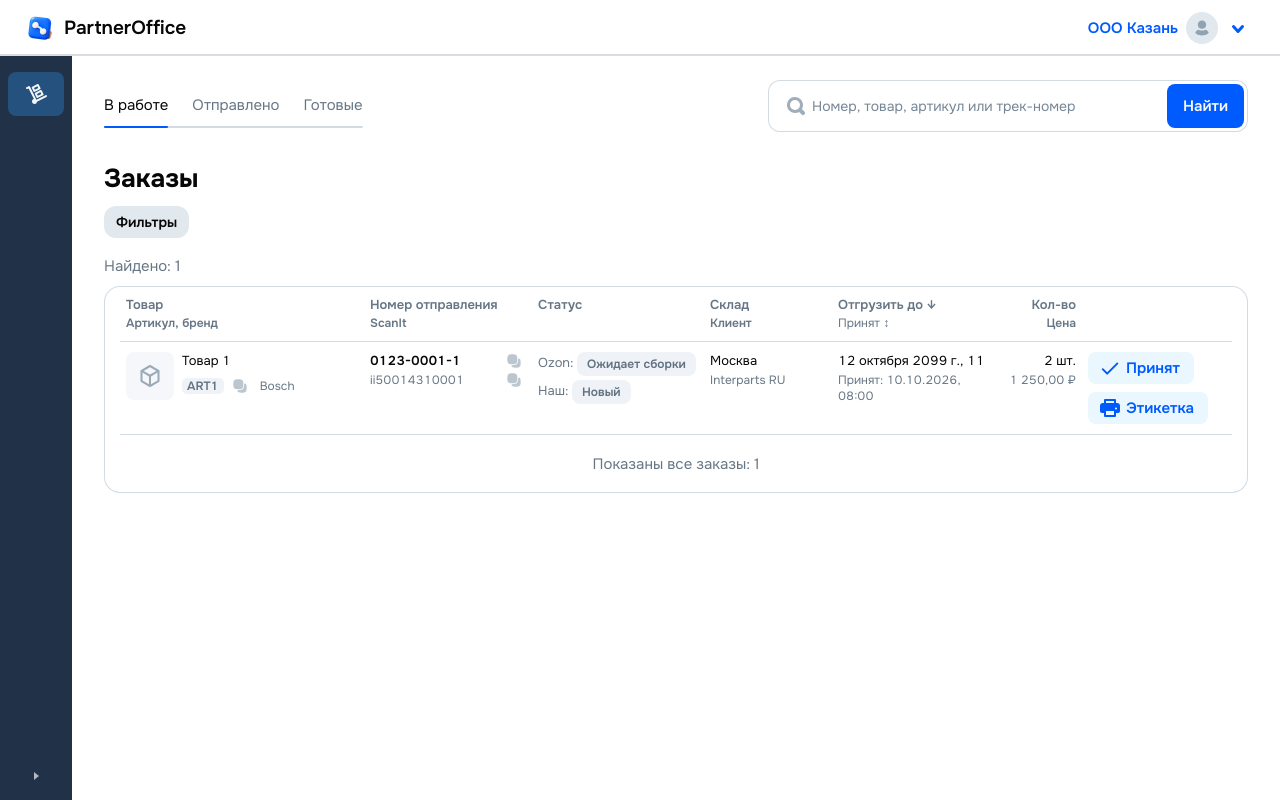
Статус Studio2: «Принят» → «Отгрузить» › цепочка: «Принят» → «Отгрузить» (собирает отправление в Ozon) → кнопки нет; ответ сервера сразу в строке
Click the button "Принят" at (1141, 368), box [1088, 352, 1194, 384]
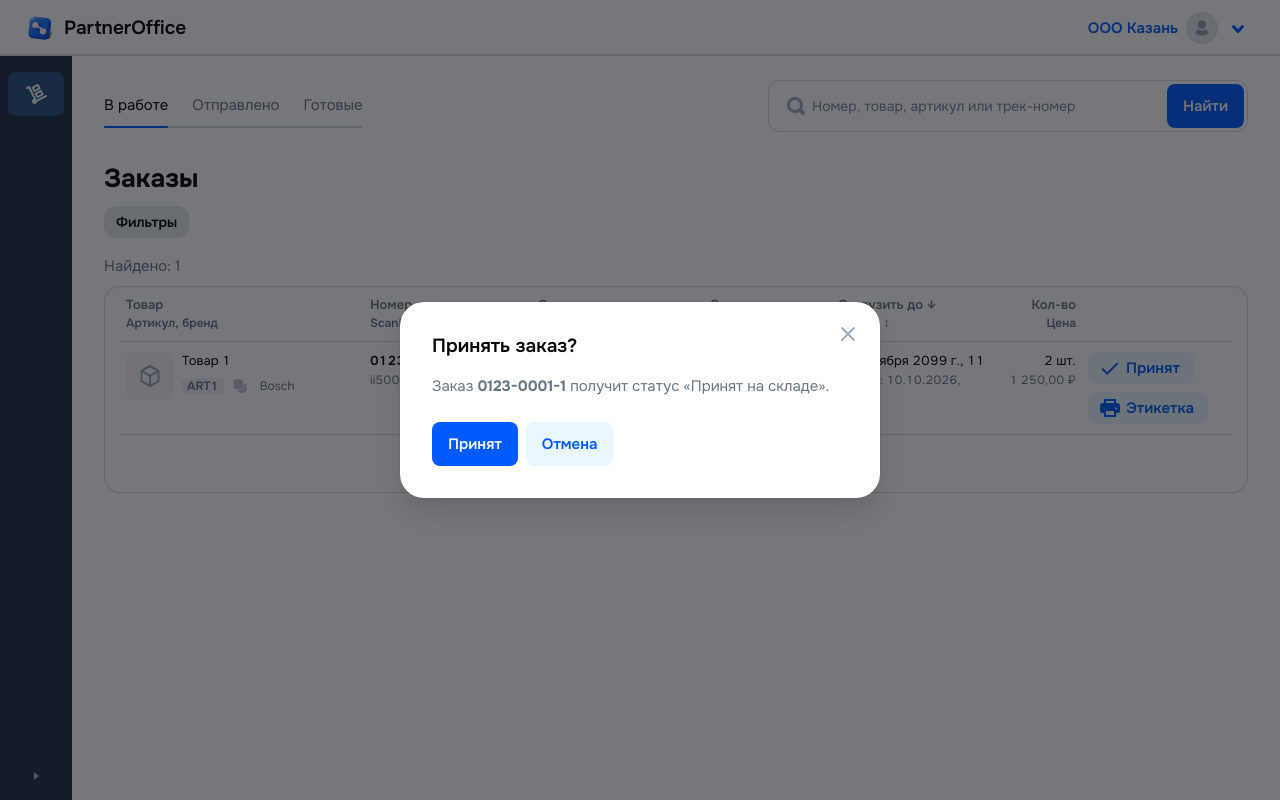
Click the button "Принят" at (475, 444), box [432, 422, 518, 466]
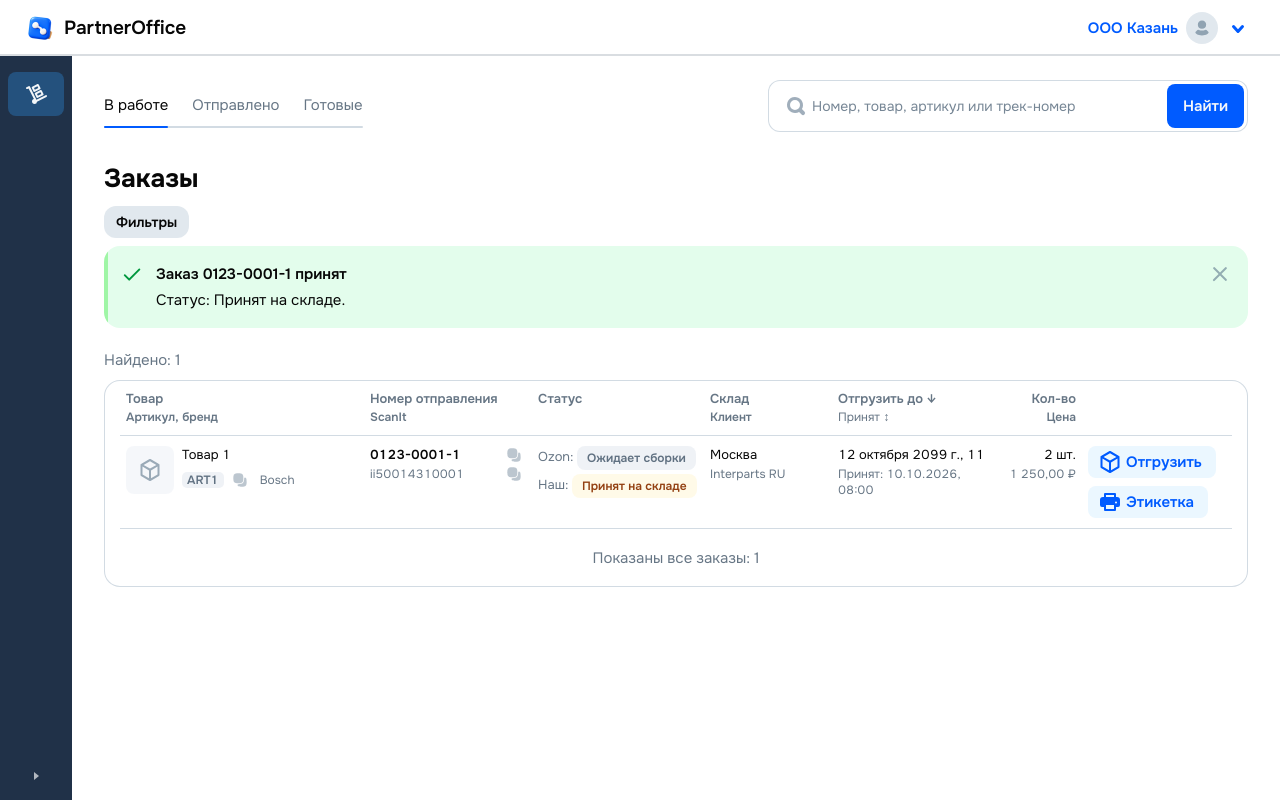
Check: the text "Заказ 0123-0001-1 принят" is shown, box [156, 262, 347, 286]
Check: the text "Статус: Принят на складе." is shown, box [156, 288, 347, 312]
Check: the text "Принят на складе" is shown, box [582, 478, 686, 494]
Click the button "Отгрузить" at (1152, 462), box [1088, 446, 1216, 478]
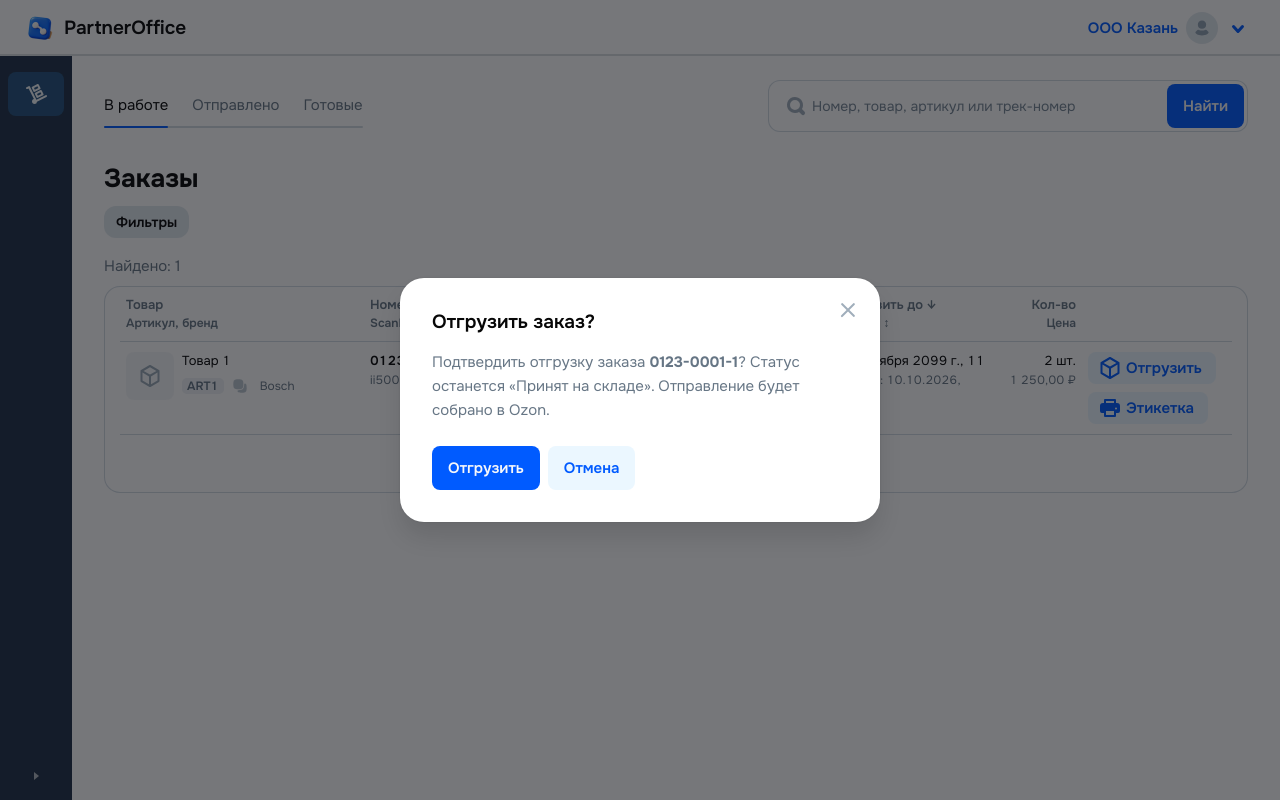
Check: the dialog "Отгрузить заказ?" shows "Статус останется «Принят на складе»", box [400, 278, 880, 522]
Check: the dialog "Отгрузить заказ?" shows "Отправление будет собрано в Ozon.", box [432, 376, 799, 420]
Click the button "Отгрузить" at (486, 468), box [432, 446, 540, 490]
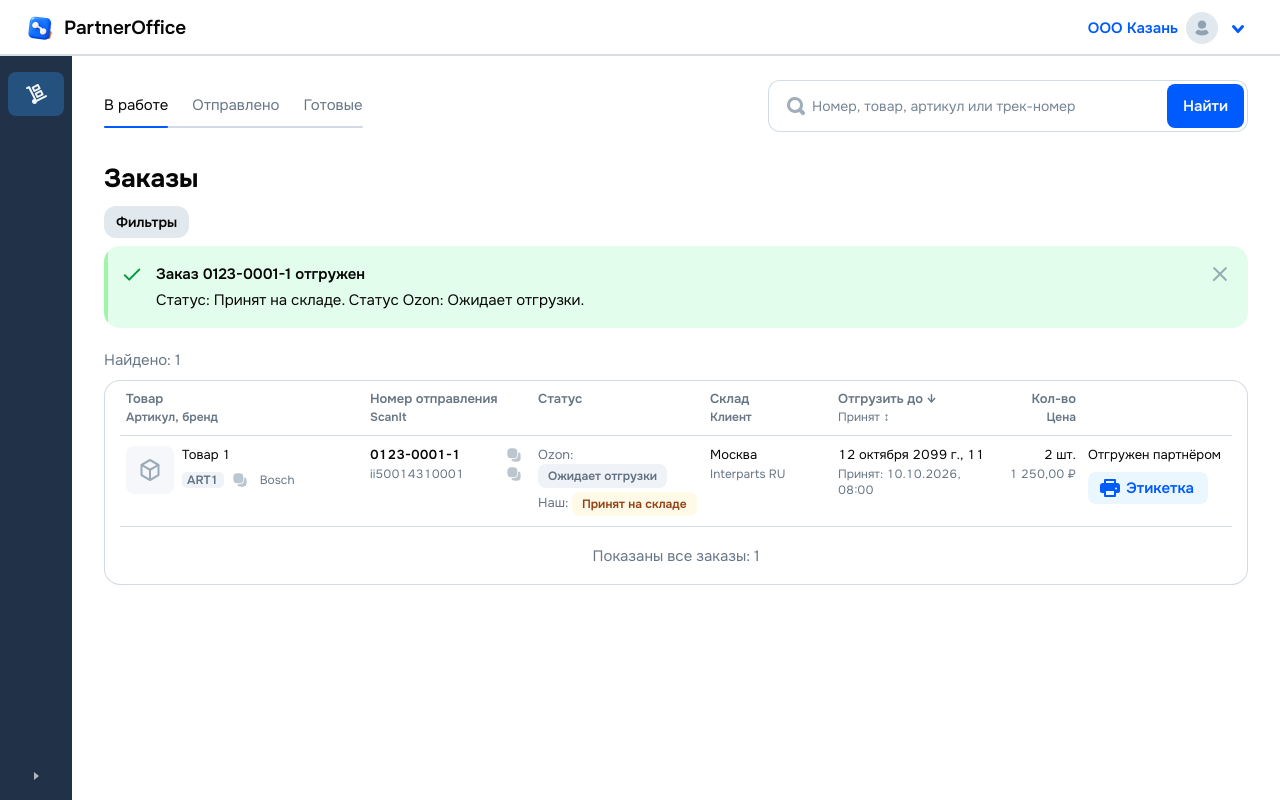
Check: the text "Заказ 0123-0001-1 отгружен" is shown, box [156, 264, 365, 284]
Check: the text "Статус: Принят на складе. Статус Ozon: Ожидает отгрузки." is shown, box [156, 288, 584, 312]
Check: the text "Отгружен партнёром" is shown, box [1088, 446, 1221, 464]
